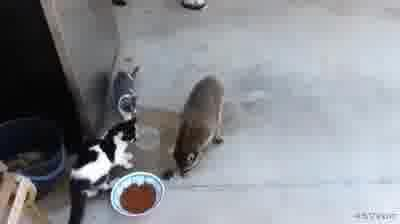raccoon: (171, 74, 229, 182)
